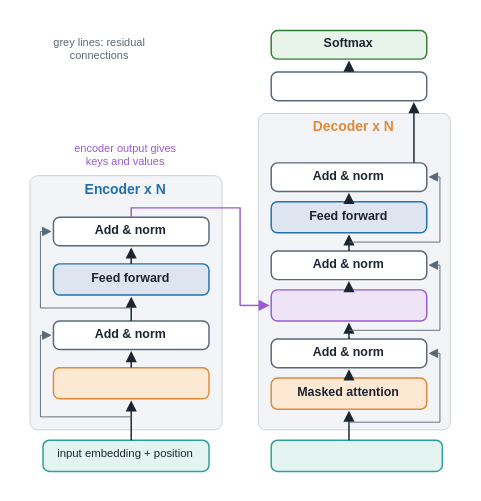
Image size: 481x501. Some labels were removed from this diagram. The shapes that lost their labels are listed below. From the top down, each one's centre as x and y in pixels, then its label:
At point 348,85: "Linear".
At point 348,304: "Cross-attention".
At point 130,382: "Multi-head attention".
At point 356,455: "output embedding + position".
